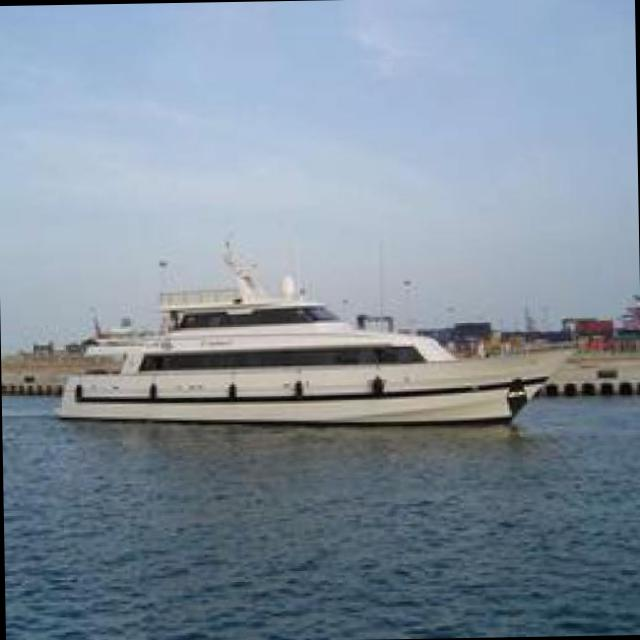boat: (42, 288, 559, 454)
